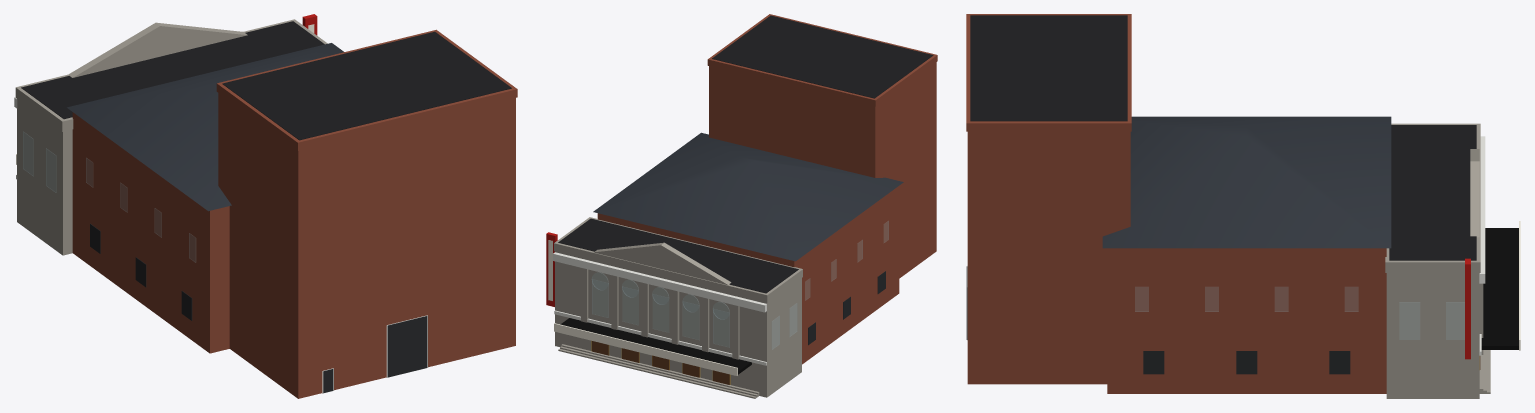
File: context.type.theatre.glb
3 views of the same model, side by side, from view 1: azimuth 30°, elevation 25°; view 2: azimuth 150°, elevation 25°; view 3: azimuth 270°, elevation 25° (orthographic). The views are drawn at different scales.
Visible parts, largest first — view 1: walls__brick, roof__roof_felt, roof__slate, walls__paving, roof__paving, roof__brick, openings__steel_dark, openings__glass; view 2: walls__brick, roof__slate, walls__paving, roof__roof_felt, roof__paving, openings__glass, openings__paint_white, openings__paving, roof__brick, roof__light_emitter, roof__plastic_black, roof__glass (+3 smaller); view 3: walls__brick, roof__slate, roof__roof_felt, walls__paving, roof__plastic_black, roof__brick, openings__glass, roof__paving, openings__steel_dark, openings__paint_white, roof__hazard_red.
Boxes of the visible parts, <box> form: walls__brick: <box>72,93,515,398</box>; roof__roof_felt: <box>21,21,511,140</box>; roof__slate: <box>67,43,344,211</box>; walls__paving: <box>17,99,72,255</box>; roof__paving: <box>15,19,327,131</box>; roof__brick: <box>216,29,517,150</box>; openings__steel_dark: <box>90,223,427,393</box>; openings__glass: <box>23,132,195,262</box>; walls__brick: <box>597,62,936,364</box>; roof__slate: <box>593,132,903,261</box>; walls__paving: <box>555,251,801,398</box>; roof__roof_felt: <box>558,15,933,293</box>; roof__paving: <box>554,217,802,302</box>; openings__glass: <box>592,221,888,349</box>; openings__paint_white: <box>553,252,766,365</box>; openings__paving: <box>581,268,739,359</box>; roof__brick: <box>707,14,937,106</box>; roof__light_emitter: <box>548,240,737,375</box>; roof__plastic_black: <box>560,318,751,374</box>; roof__glass: <box>592,272,729,319</box>; walls__brick: <box>967,131,1386,393</box>; roof__slate: <box>1102,116,1391,248</box>; roof__roof_felt: <box>970,15,1476,260</box>; walls__paving: <box>1386,273,1490,398</box>; roof__plastic_black: <box>1481,228,1518,349</box>; roof__brick: <box>966,14,1131,131</box>; openings__glass: <box>1135,287,1464,339</box>; roof__paving: <box>1385,123,1480,272</box>; openings__steel_dark: <box>966,266,1350,374</box>; openings__paint_white: <box>967,136,1485,355</box>; roof__hazard_red: <box>1465,258,1470,359</box>.
Bounding box in the file's own units: 29.7 × 24.88 × 47.62.
